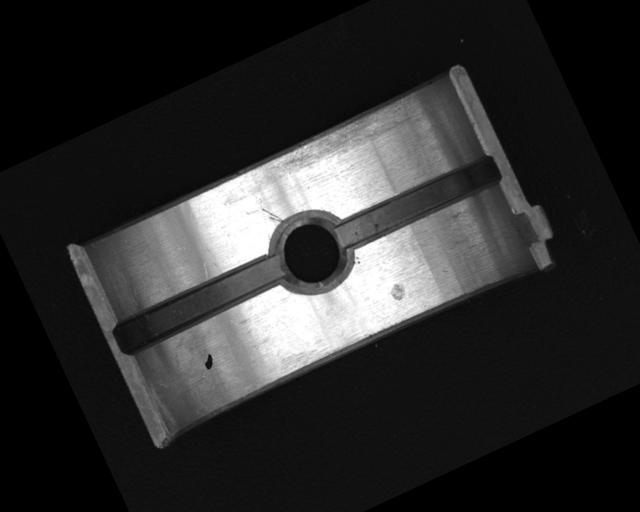blot: (199, 352, 217, 372)
bruise: (386, 280, 410, 304)
gap: (108, 247, 293, 359), (332, 150, 505, 255)
hole: (262, 199, 362, 303)
nick: (260, 200, 284, 229)
scratch: (265, 90, 423, 186)
